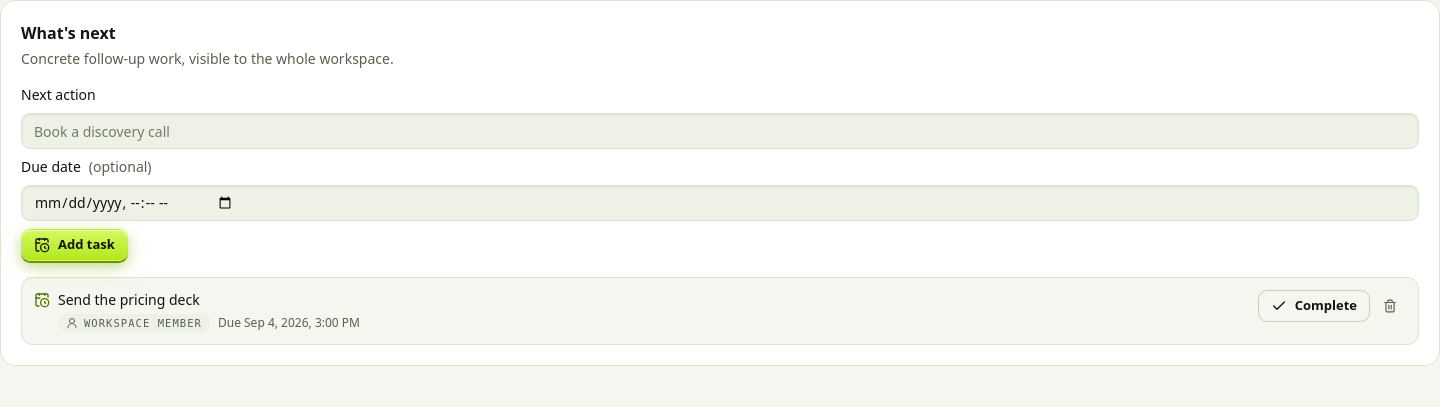
a completion the server refuses is reported on the row, which stays open
Click the button with aria-label "mark send the pricing deck as complete".
click(1314, 306)  # box [1258,290,1370,322]
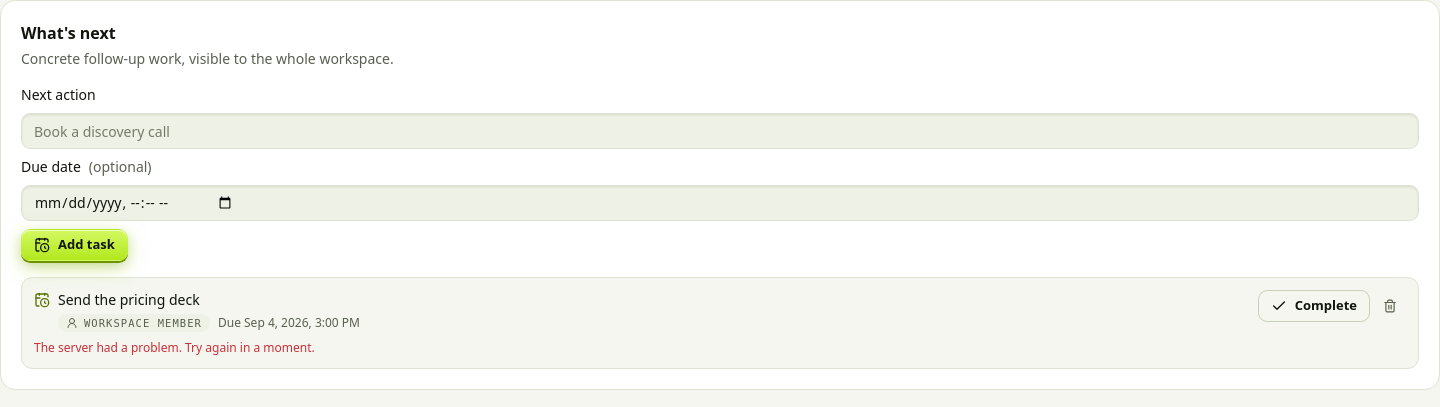
Now the message reads "The server had a problem. Try again in a moment.", box [34,339,315,356]
